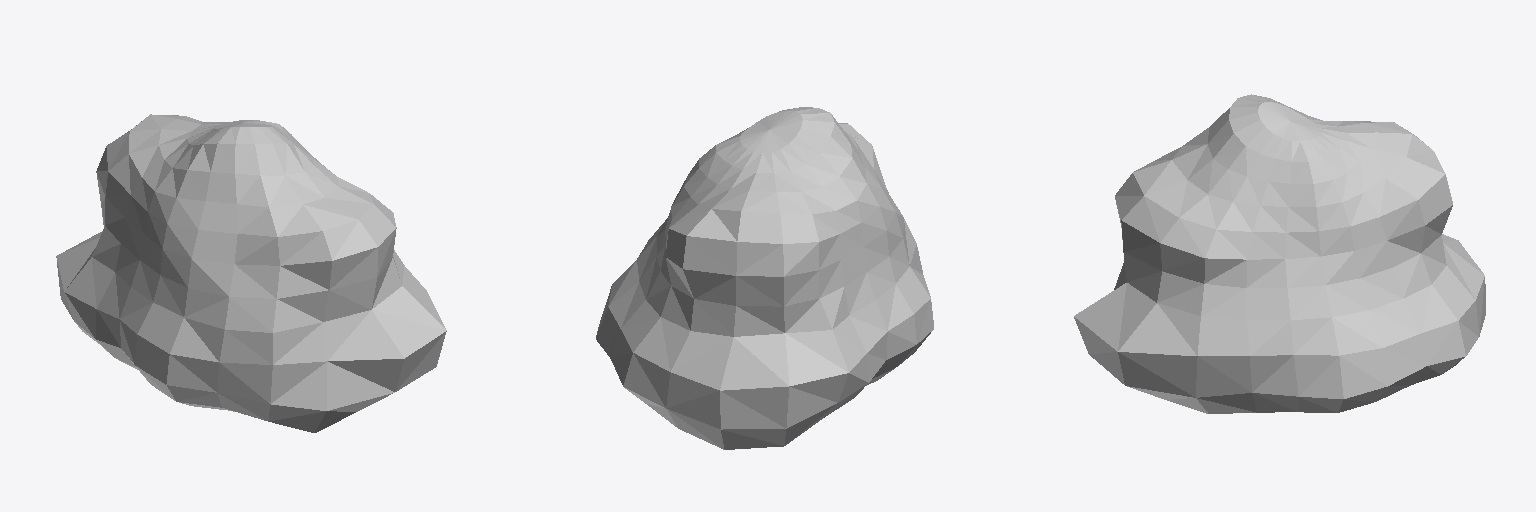
The model's file is arbusto.obj.
3 views of the same model, side by side, from view 1: azimuth 30°, elevation 25°; view 2: azimuth 150°, elevation 25°; view 3: azimuth 270°, elevation 25° (orthographic).
Parts seen in each view (by area): view 1: Sphere.001; view 2: Sphere.001; view 3: Sphere.001.
Part boxes in pixels (left/top/right/bottom): Sphere.001: left=56, top=114, right=446, bottom=432; Sphere.001: left=596, top=107, right=933, bottom=449; Sphere.001: left=1074, top=94, right=1485, bottom=413.
Size of the model in its own units: 1.08 by 1.07 by 1.42.